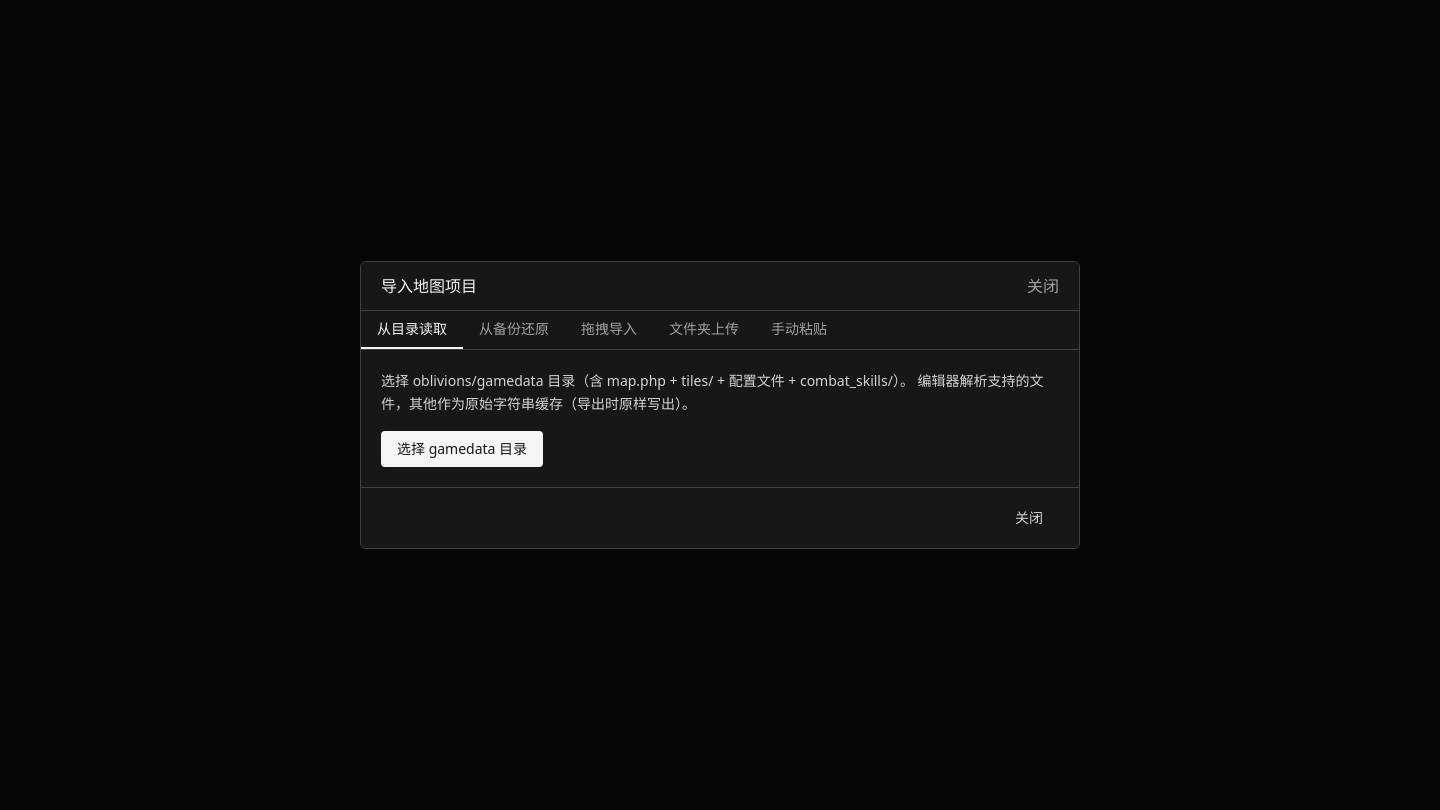
it: ImportModal › 点击 webkitdirectory Tab 切换
Click the button "文件夹上传": click(704, 330) [653,311,755,349]
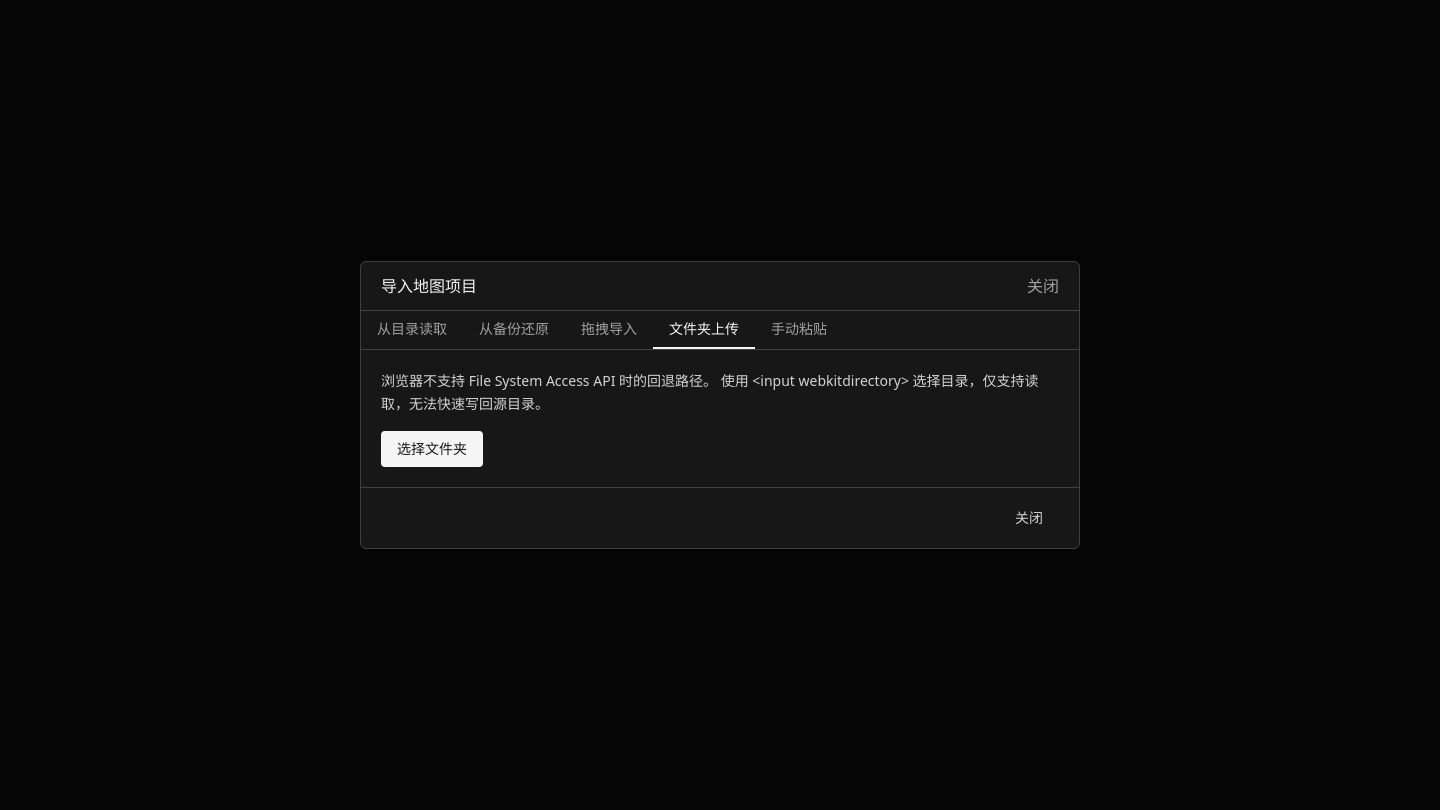
Result: the text "浏览器不支持 File System Access API 时的回退路径" is shown at [381,371,1039,413]
